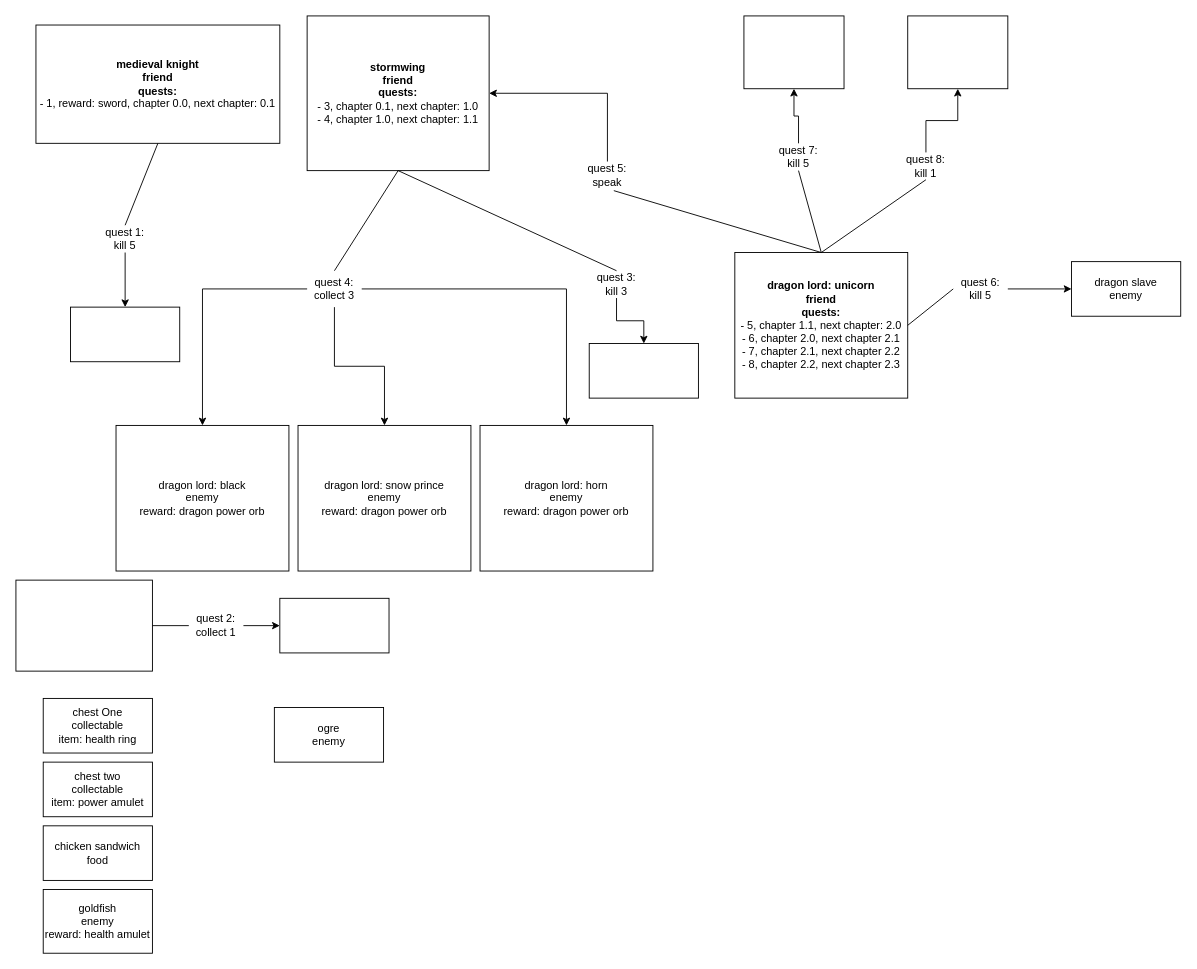
Image size: 1197x969. Some labels were removed from this diagram. The shapes that lost their labels are listed below. From the top down, each one's box as (x1, y1, x2, y2) in pixels, then its label:
(743, 15, 844, 89): dragon knight enemy
(907, 15, 1008, 89): stormwing boss enemy
(70, 306, 180, 362): hell minion enemy
(588, 343, 698, 398): ent enemy
(15, 579, 152, 671): dragon mom friend quests: - 2, reward: health amulet
(279, 597, 389, 653): dragon baby collectable item: dragon baby
